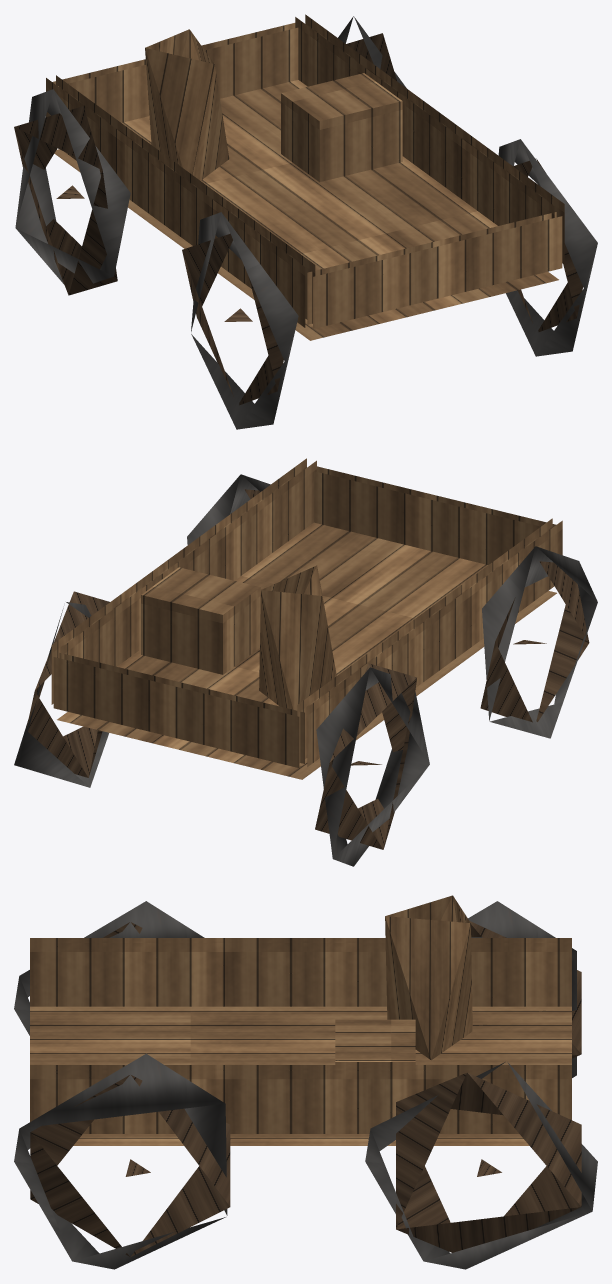
Rendered from Prop_Wagon_Loaded_LOD2.gltf.
3 views of the same model, one above another, from view 1: azimuth 30°, elevation 25°; view 2: azimuth 150°, elevation 25°; view 3: azimuth 270°, elevation 25° (orthographic). The views are drawn at different scales.
Parts seen in each view (by area): view 1: Prop_Wagon_Loaded_LOD2; view 2: Prop_Wagon_Loaded_LOD2; view 3: Prop_Wagon_Loaded_LOD2.
Part boxes in pixels (<box>): Prop_Wagon_Loaded_LOD2: <box>14,14,597,429</box>; Prop_Wagon_Loaded_LOD2: <box>14,458,597,866</box>; Prop_Wagon_Loaded_LOD2: <box>14,895,597,1269</box>.
Size of the model in its own units: 1.96 by 1.42 by 2.91.
Materials: 3 (3 with a texture image).
